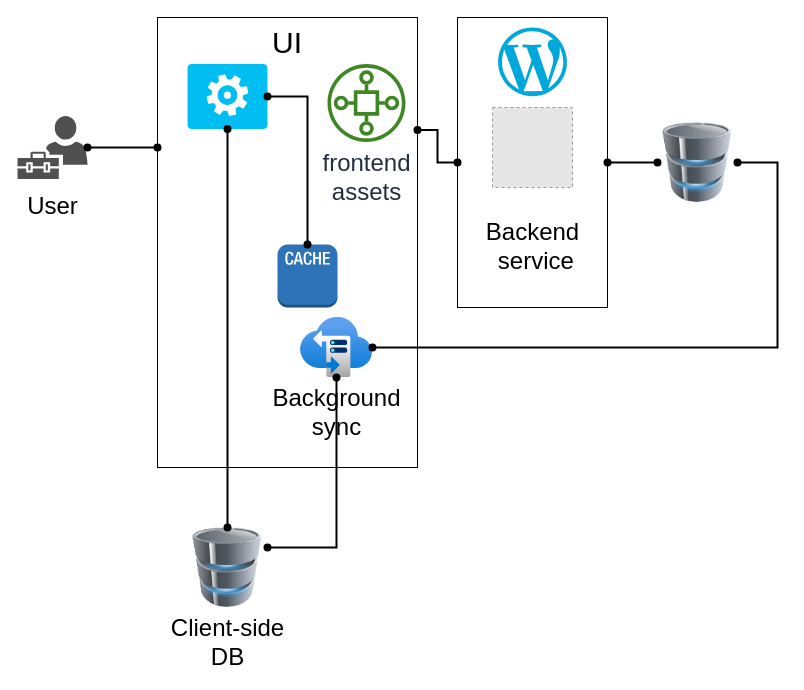
Some shapes in this 804 by 690 pixel diagram are drawn without their labels. Grey dashed boxes stand in for pictures. The centre of each missing label's shape, as x and y in pixels:
"Server-side DB" belongs at point (697, 162).
"Service worker" belongs at point (227, 96).
